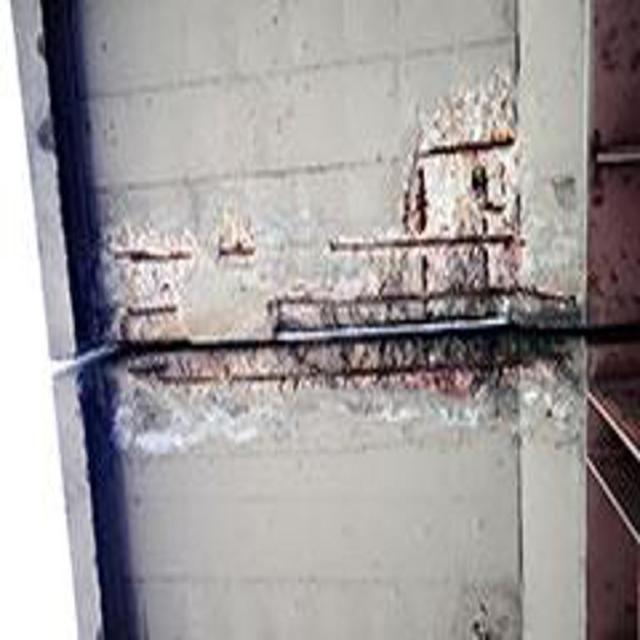Rebar: (101, 63, 594, 408)
